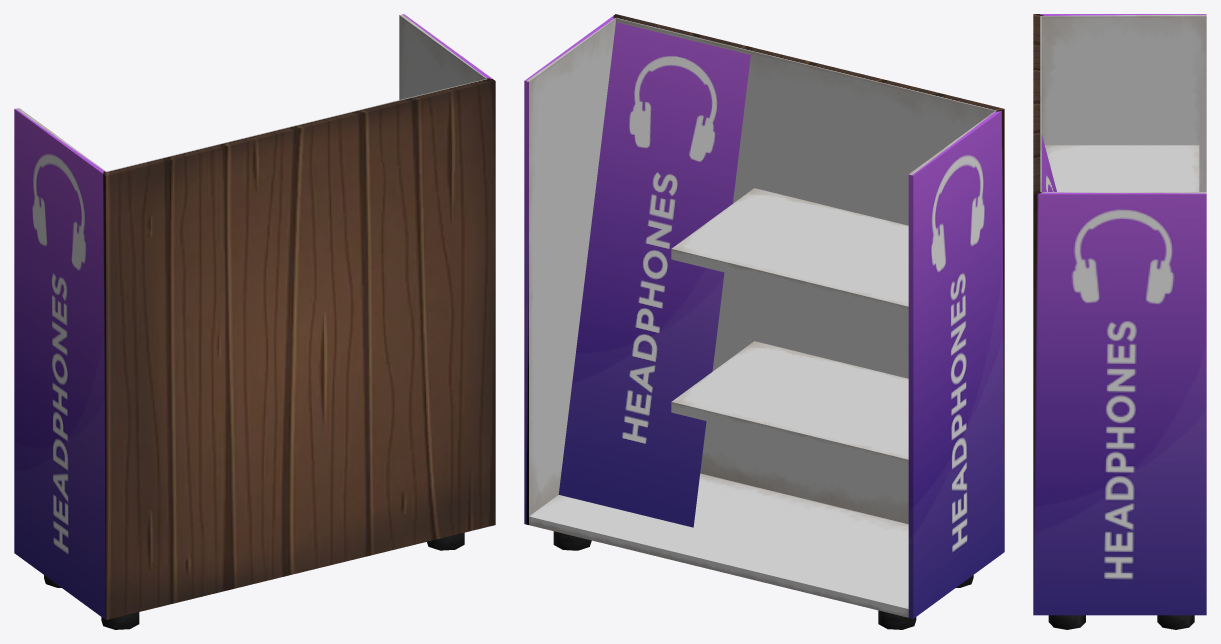
Rendered from Self_1.fbx.
3 views of the same model, side by side, from view 1: azimuth 30°, elevation 25°; view 2: azimuth 150°, elevation 25°; view 3: azimuth 270°, elevation 25° (orthographic). The views are drawn at different scales.
Parts seen in each view (by area): view 1: Shelf_1; view 2: Shelf_1; view 3: Shelf_1.
Part boxes in pixels (<box>): Shelf_1: <box>14,14,495,629</box>; Shelf_1: <box>524,14,1004,629</box>; Shelf_1: <box>1033,14,1206,629</box>.
Size of the model in its own units: 131 by 150 by 53.34.
